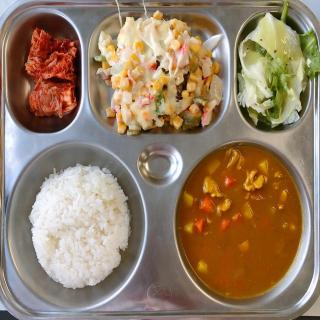Nasi: (14, 164, 138, 294)
